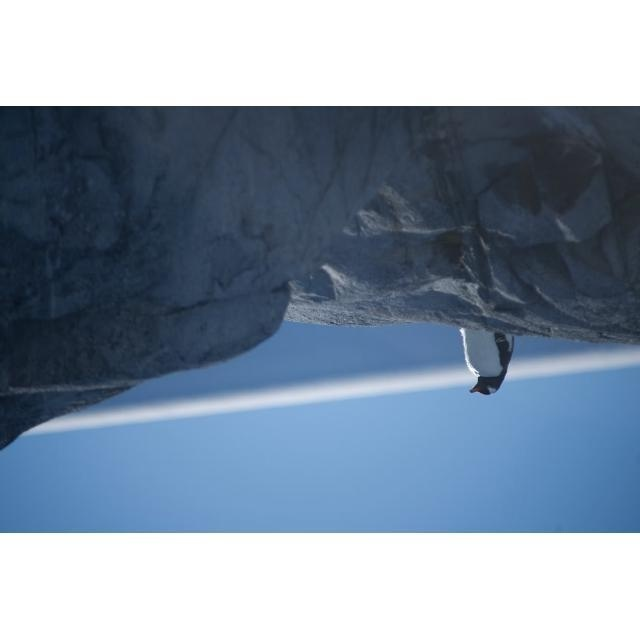penguin: (459, 322, 517, 396)
